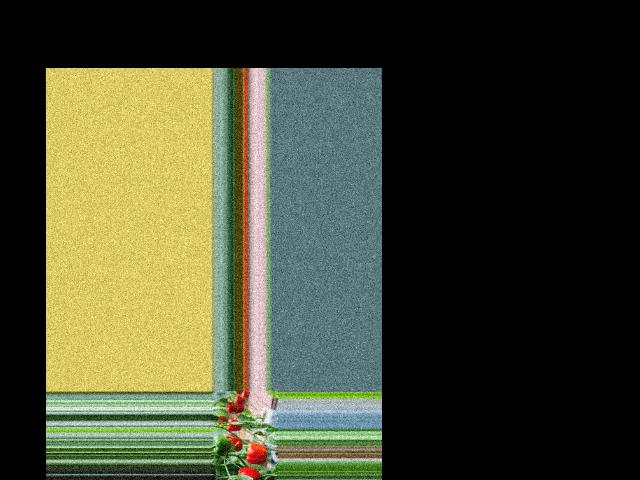bell_pepper: (223, 417, 245, 431)
